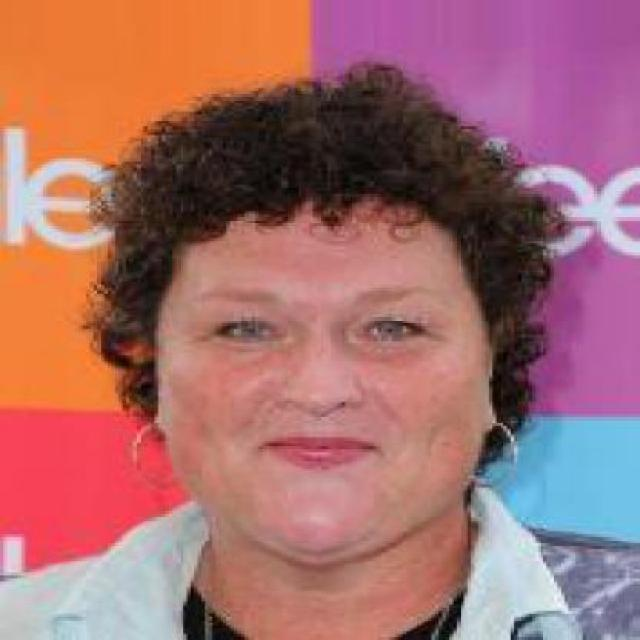closed-mouth: (258, 434, 380, 474)
